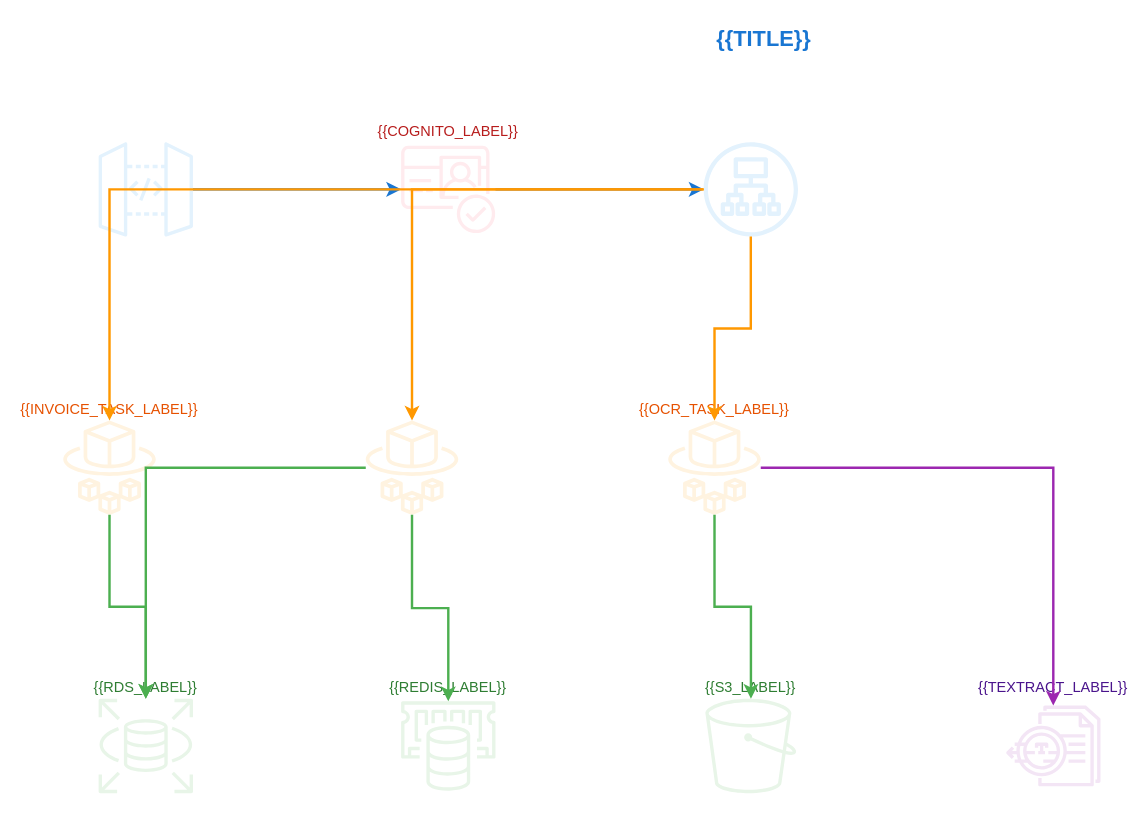
The diagram is 1148 pixels wide and 814 high, and some of its shapes have lost their labels. Here are the shapes that lost their labels. From the top down, the box of each, then its label:
(97, 141, 193, 237): {{API_GATEWAY_LABEL}}
(702, 141, 798, 237): {{ALB_LABEL}}
(364, 419, 459, 515): {{PRODUCT_TASK_LABEL}}
